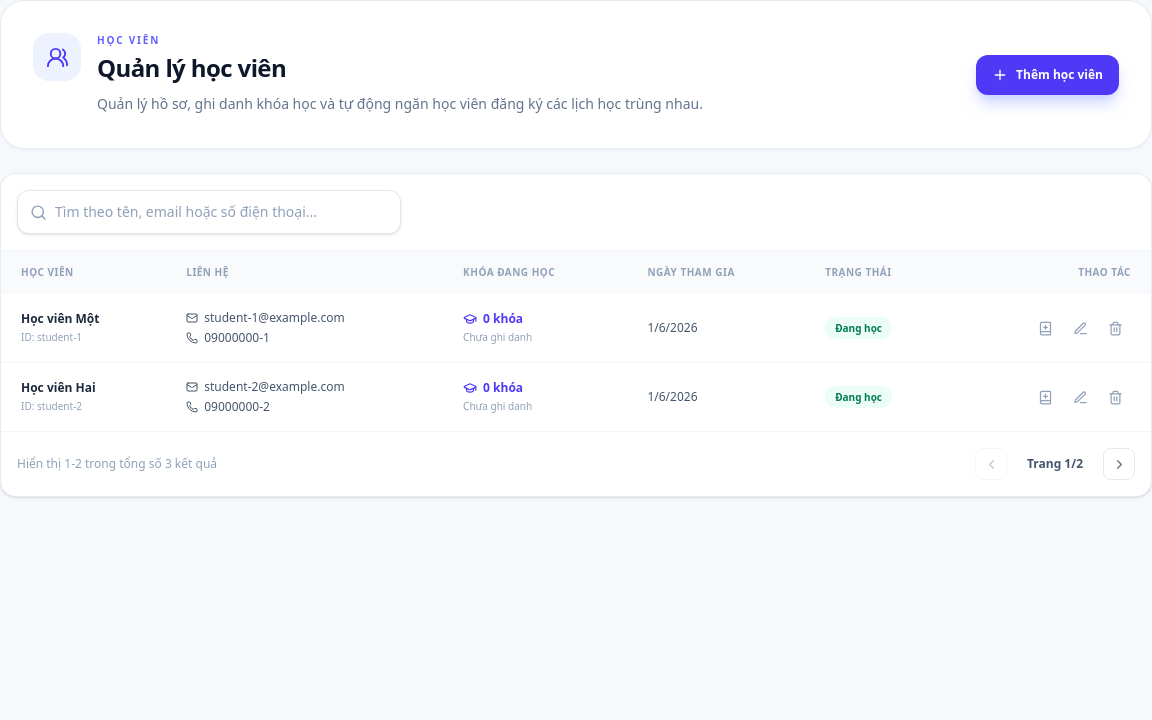
Test: StudentsPage › phân trang danh sách học viên và đưa về trang đầu khi tìm kiếm
Click the button named "Trang sau" at (1119, 464), box [1103,448,1135,480]
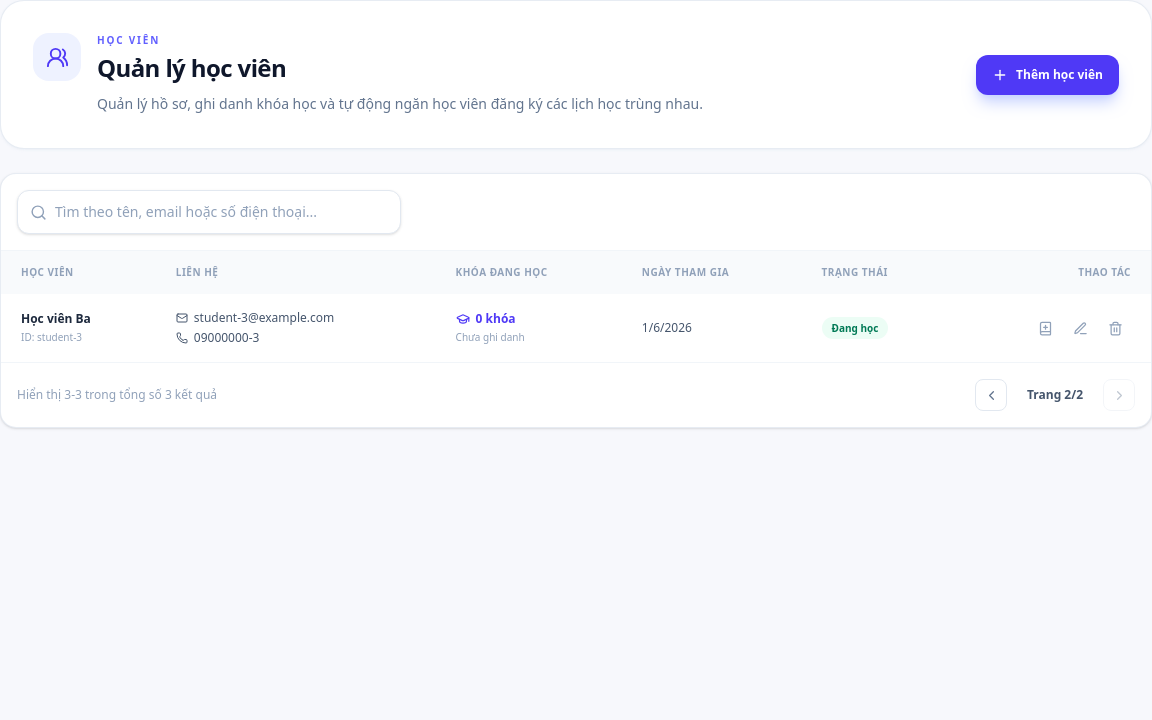
Now the text "Học viên Ba" is shown, box [21,310,91,327]
Now the text "Học viên Một" is gone
Now the text "Trang 2/2" is shown, box [1027,386,1083,403]
Type "Học viên Một" into the search field with placeholder "Tìm theo tên, email hoặc số điện thoại..." at (222, 212), box [55,202,388,222]
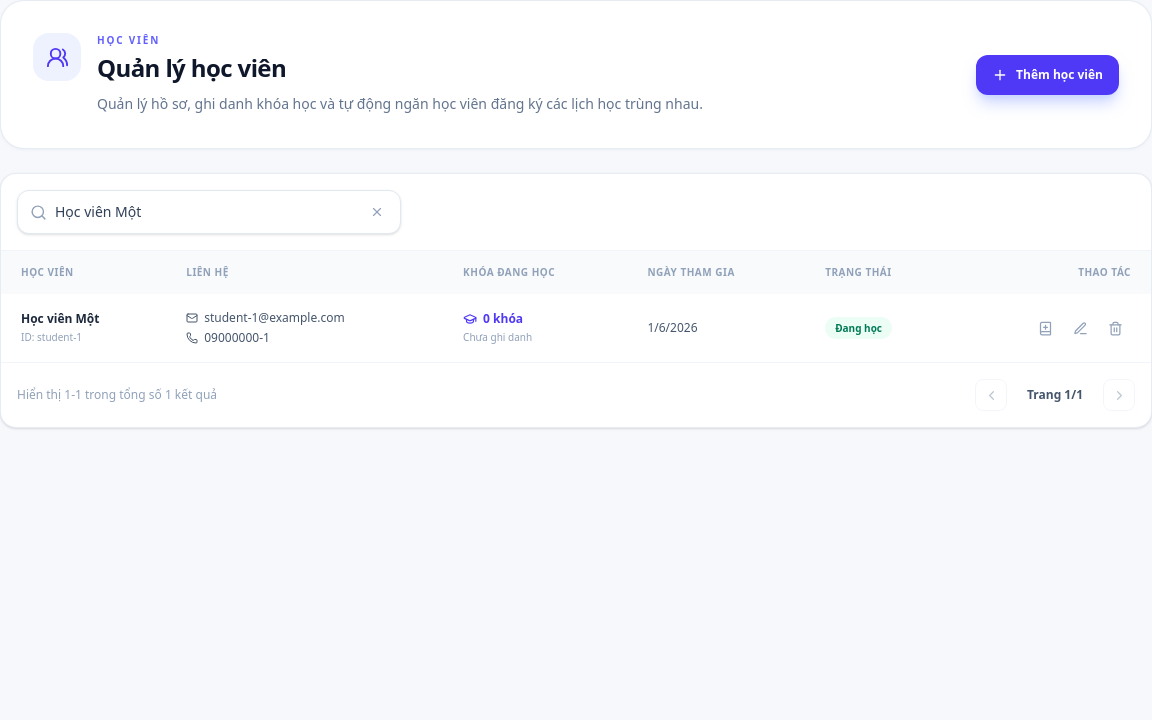
Now the text "Học viên Một" is shown, box [21,310,99,327]
Now the text "Trang 1/1" is shown, box [1027,386,1083,403]
